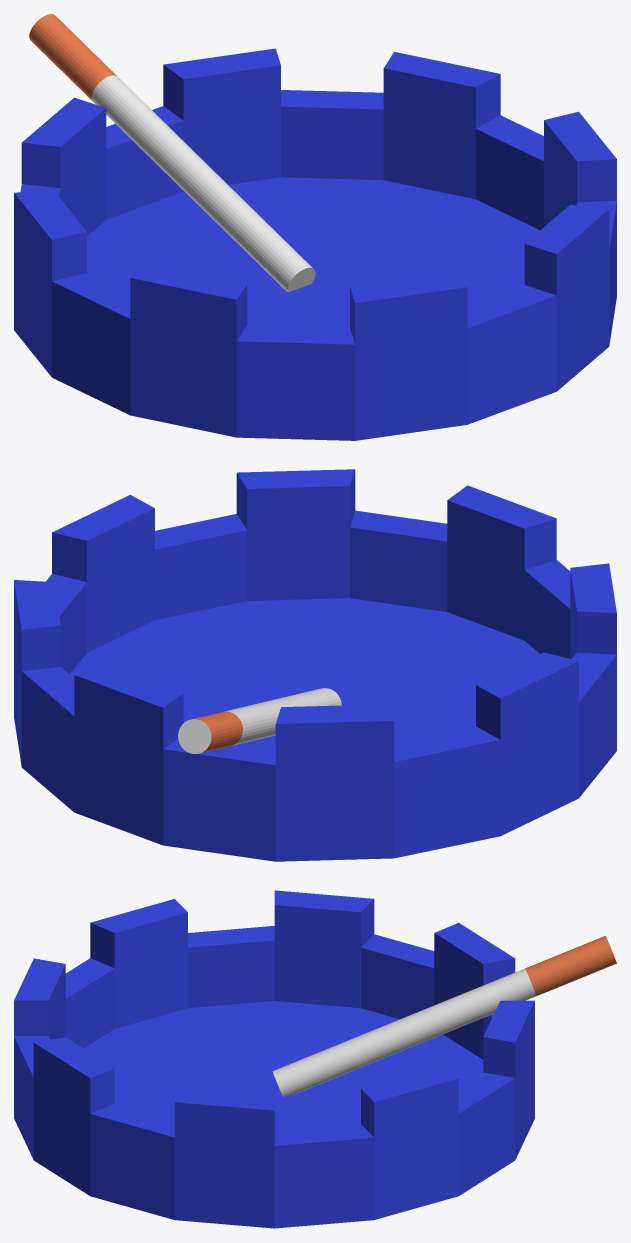
Rendered from Ashtray_000.fbx.
3 views of the same model, one above another, from view 1: azimuth 30°, elevation 25°; view 2: azimuth 150°, elevation 25°; view 3: azimuth 270°, elevation 25° (orthographic). The views are drawn at different scales.
Visible parts, largest first — view 1: Ashtray, Cigarette; view 2: Ashtray, Cigarette; view 3: Ashtray, Cigarette.
Part boxes in pixels (x1=…): Ashtray: x1=14, y1=48, x2=616, y2=440; Cigarette: x1=29, y1=14, x2=315, y2=292; Ashtray: x1=14, y1=469, x2=616, y2=861; Cigarette: x1=178, y1=688, x2=341, y2=753; Ashtray: x1=14, y1=890, x2=534, y2=1228; Cigarette: x1=272, y1=936, x2=616, y2=1096.
Size of the model in its own units: 200 by 63.54 by 231.
